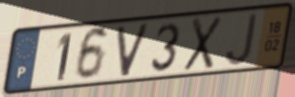1: (56, 32, 73, 82)
3: (149, 21, 182, 73)
6: (71, 24, 112, 85)
J: (223, 11, 259, 68)
V: (115, 21, 152, 79)
X: (181, 14, 225, 74)
